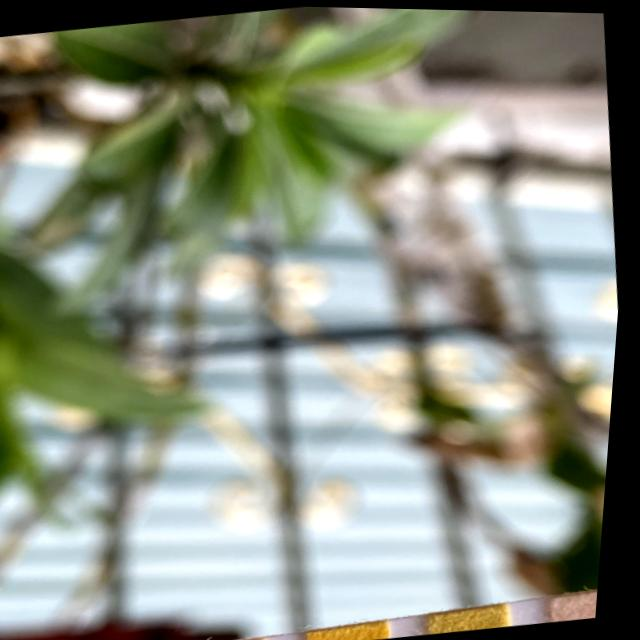Blood: (318, 621, 397, 640)
Ketone: (562, 586, 606, 619)
SpGravity: (438, 604, 516, 633)
pH: (193, 639, 272, 640)
